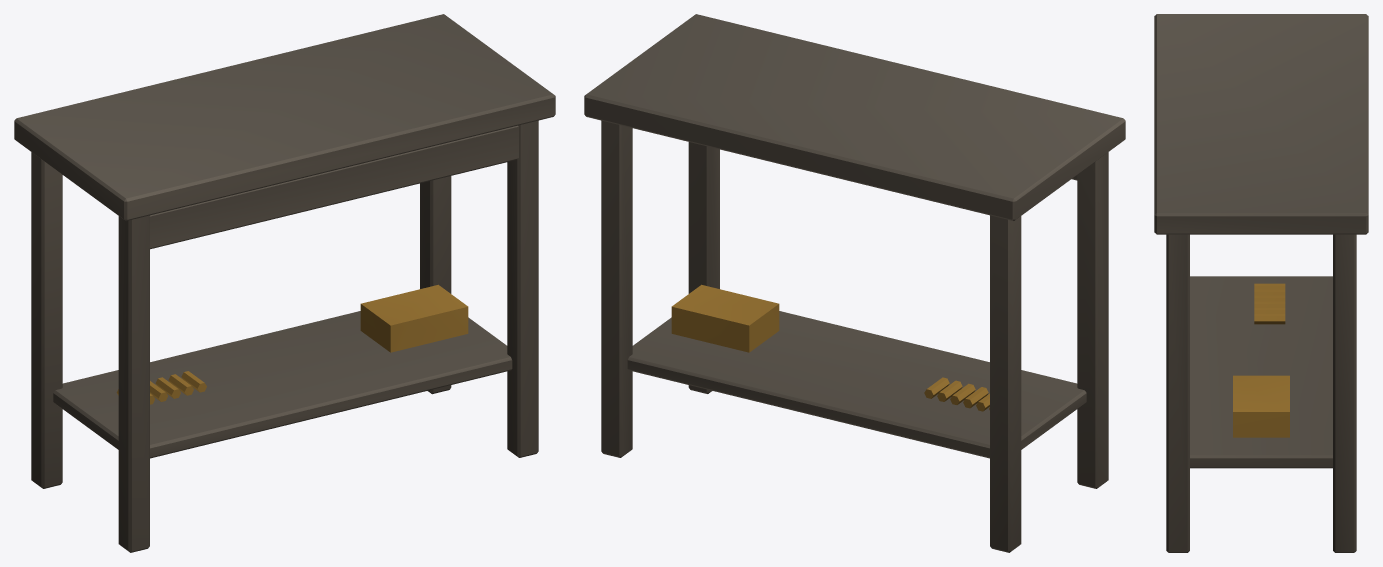
File: lodge-table.glb
The picture shows the model from 3 angles, left to right: view 1: azimuth 30°, elevation 25°; view 2: azimuth 150°, elevation 25°; view 3: azimuth 270°, elevation 25°; orthographic projection. The views are drawn at different scales.
Parts seen in each view (by area): view 1: lodge-table-wood, lodge-table-brass; view 2: lodge-table-wood, lodge-table-brass; view 3: lodge-table-wood, lodge-table-brass.
Boxes of the visible parts, x1,y1,x2,y2 form: lodge-table-wood: (14,14,555,552); lodge-table-brass: (116,284,468,404); lodge-table-wood: (584,14,1125,552); lodge-table-brass: (671,284,989,411); lodge-table-wood: (1154,14,1368,552); lodge-table-brass: (1233,283,1289,437).
Bounding box in the file's own units: 1 × 0.8 × 0.45.
